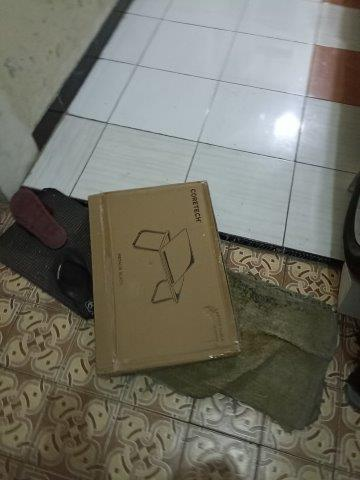kardus: (89, 184, 238, 371)
